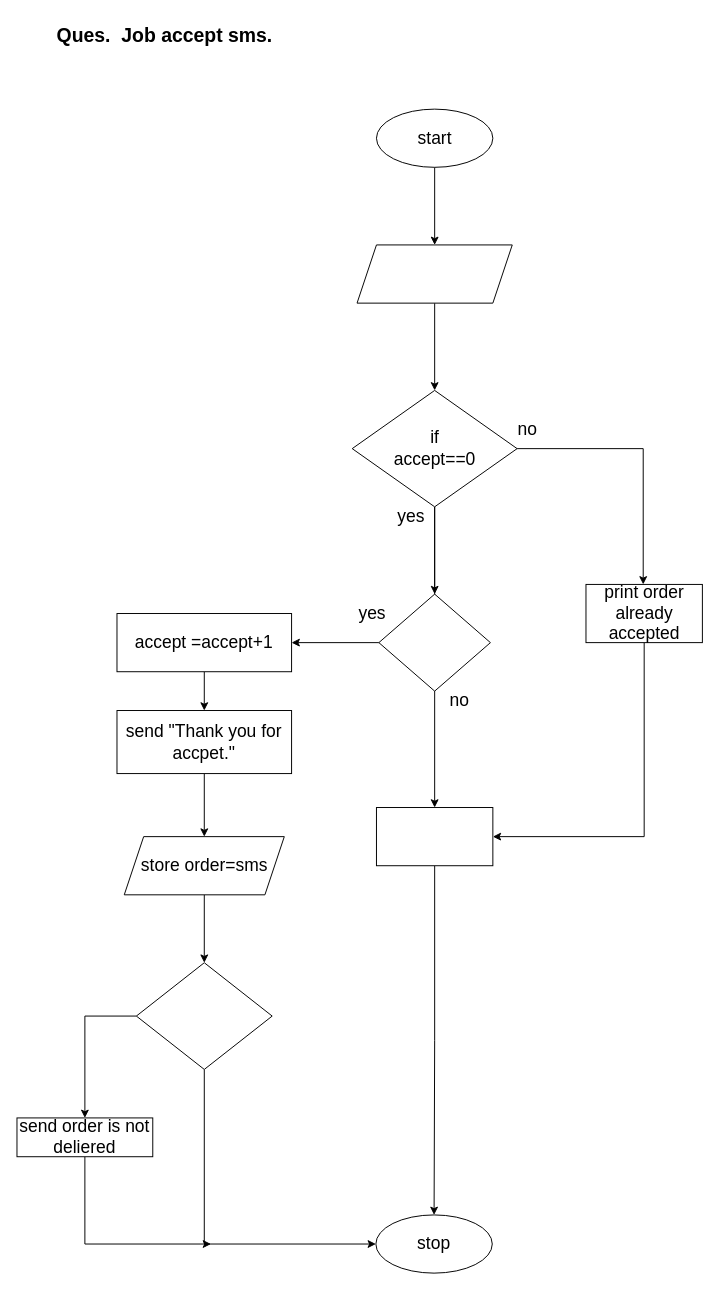
Some shapes in this 720 by 1290 pixel diagram are drawn without their labels. The box of each missing label's shape, as (x1, y1, x2, y2) in pixels:
check order delivered: (135, 962, 272, 1069)
Declare sms, order,accept=0: (356, 244, 512, 303)
if job==yes: (378, 593, 490, 691)
print "Thank You for resp.": (375, 807, 493, 866)
